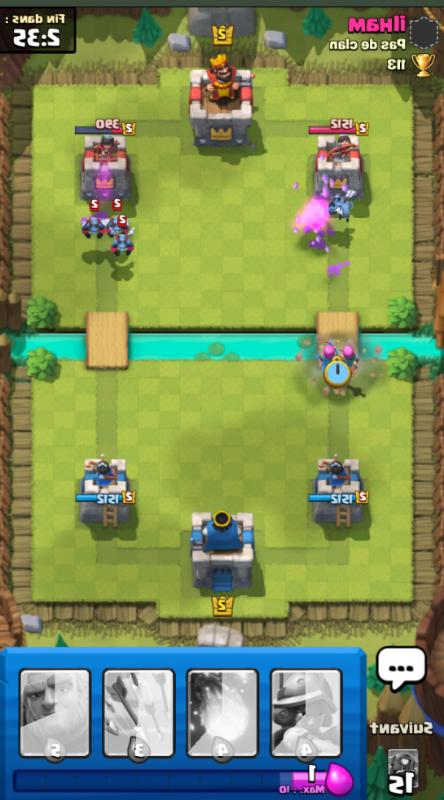archere: (317, 339, 339, 376), (338, 339, 359, 374)
gargouille: (323, 198, 355, 226), (79, 213, 106, 238), (110, 232, 136, 257), (104, 216, 128, 240)
